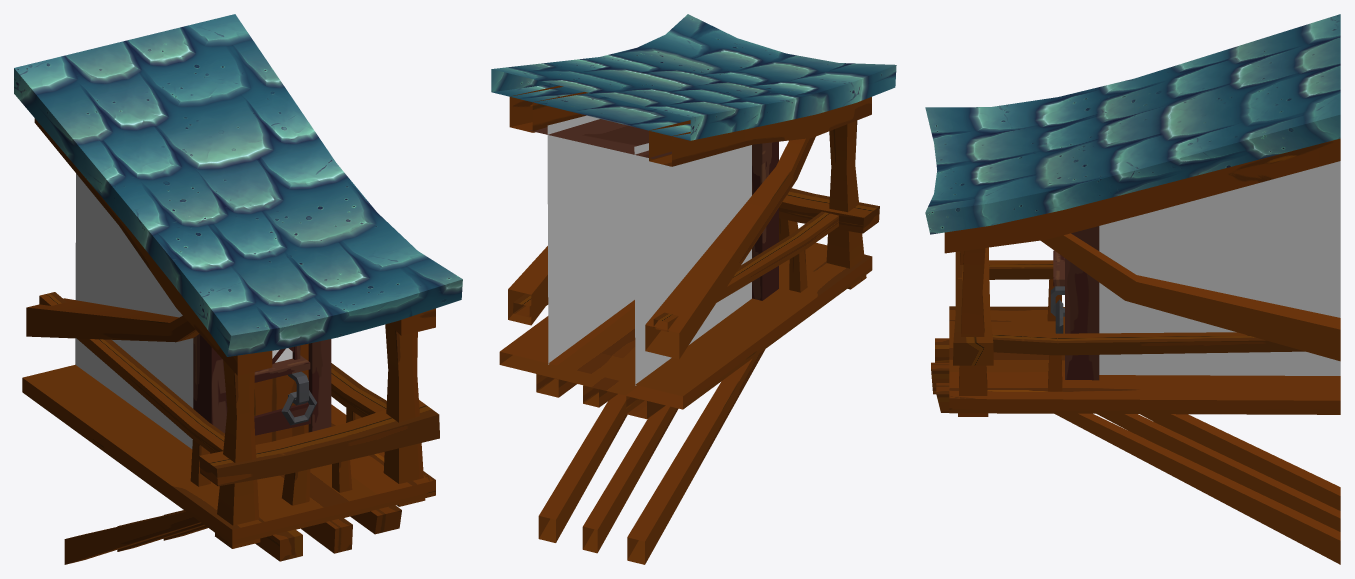
The model's file is SM_BLD_balcony_v01_01.fbx.
3 views of the same model, side by side, from view 1: azimuth 30°, elevation 25°; view 2: azimuth 150°, elevation 25°; view 3: azimuth 270°, elevation 25° (orthographic). The views are drawn at different scales.
Parts seen in each view (by area): view 1: SM_BLD_balcony_v01_01; view 2: SM_BLD_balcony_v01_01; view 3: SM_BLD_balcony_v01_01.
Boxes of the visible parts, left/top/right/bottom form: SM_BLD_balcony_v01_01: left=14, top=14, right=462, bottom=564; SM_BLD_balcony_v01_01: left=491, top=14, right=896, bottom=564; SM_BLD_balcony_v01_01: left=925, top=14, right=1340, bottom=564.
Size of the model in its own units: 316 by 656 by 521.
